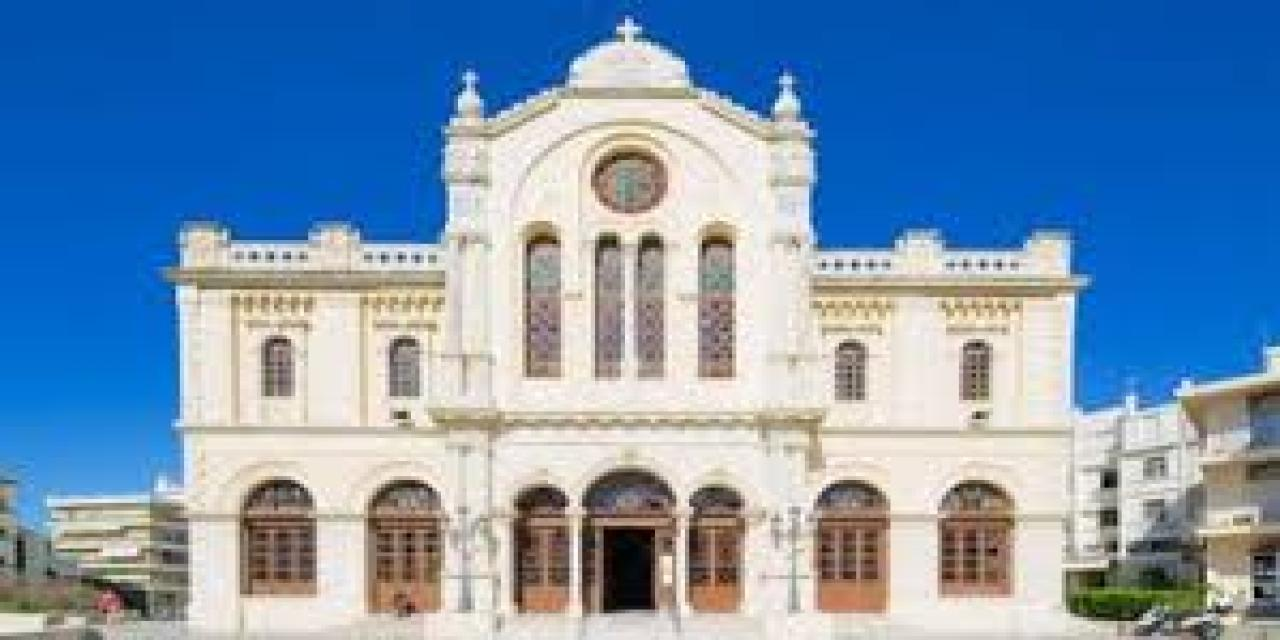Agios Minas: (167, 1, 1083, 640)
